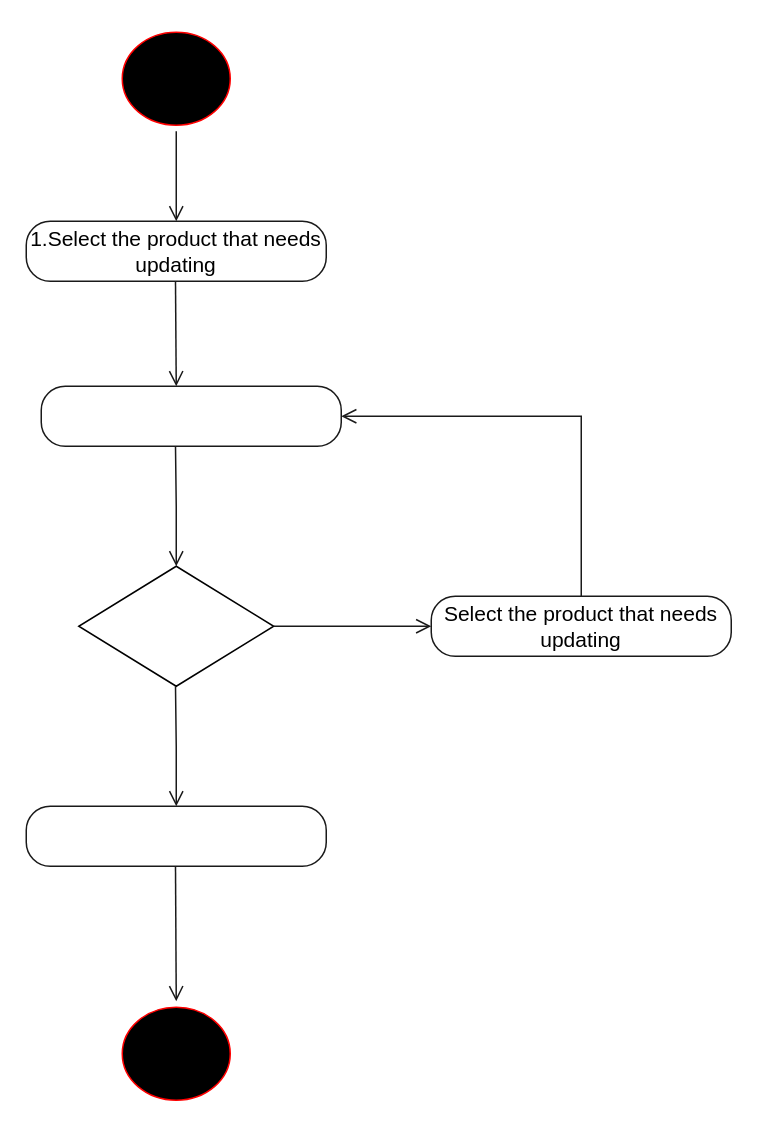
The diagram is 758 pixels wide and 1133 high, and some of its shapes have lost their labels. The shapes that lost their labels are listed below. From the top down, each one's box as (x1, y1, x2, y2) in pixels, then its label:
(40, 385, 341, 446): 2. Enter the information to update
(25, 805, 326, 866): 3. Update successful
